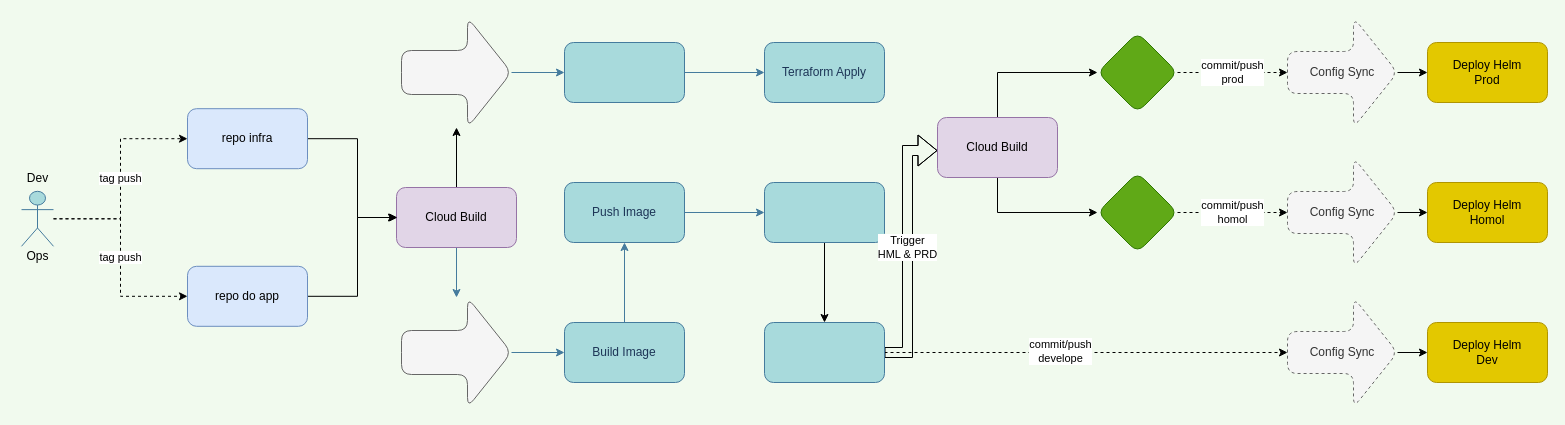
Image size: 1565x425. Some labels were removed from this diagram. The shapes that lost their labels are listed below. From the top down, each one's box as (x1, y1, x2, y2) in pixels, then its label:
(400, 16, 512, 128): Pipeline Infra
(564, 42, 684, 102): Terraform Plan
(1096, 32, 1178, 112): Approve Prod?
(764, 182, 884, 242): Git pull repo Helm charts
(1096, 172, 1178, 252): Approve Homol?
(400, 296, 512, 408): Pipeline CI
(764, 322, 884, 382): Update Chart Helm
